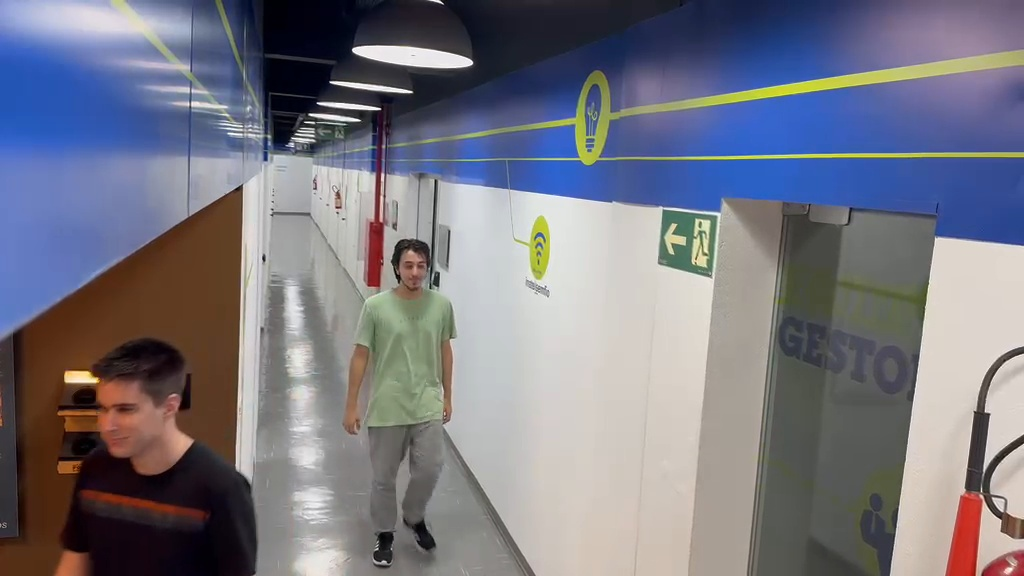person: (54, 336, 259, 572), (343, 238, 456, 567)
